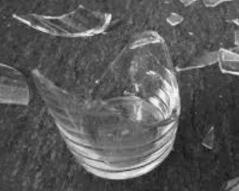glass: (31, 28, 184, 182)
